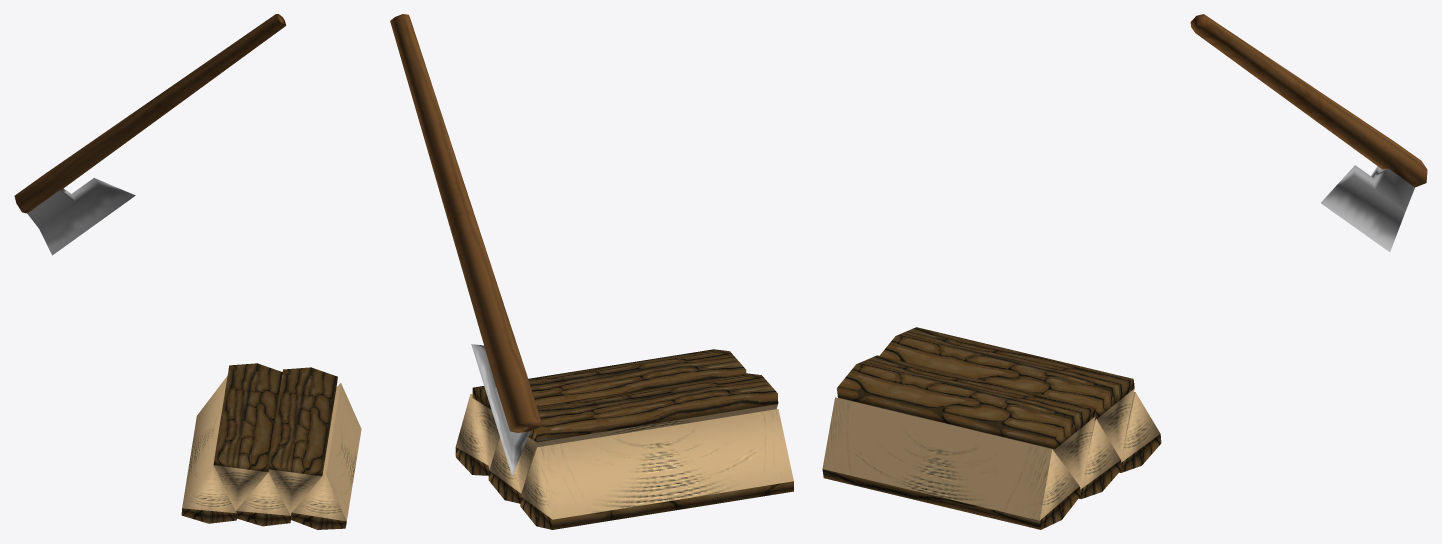
File: AxeAndWoodShape.dae
3 renders of one model, left to right at view 1: azimuth 30°, elevation 25°; view 2: azimuth 150°, elevation 25°; view 3: azimuth 270°, elevation 25°, orthographic. The views are drawn at different scales.
Visible parts, largest first — view 1: AxeAndWood; view 2: AxeAndWood; view 3: AxeAndWood.
Part boxes in pixels (x1=…): AxeAndWood: x1=14, y1=14, x2=361, y2=529; AxeAndWood: x1=390, y1=14, x2=793, y2=529; AxeAndWood: x1=822, y1=14, x2=1427, y2=529.
Size of the model in its own units: 4.87 by 8.45 by 9.
